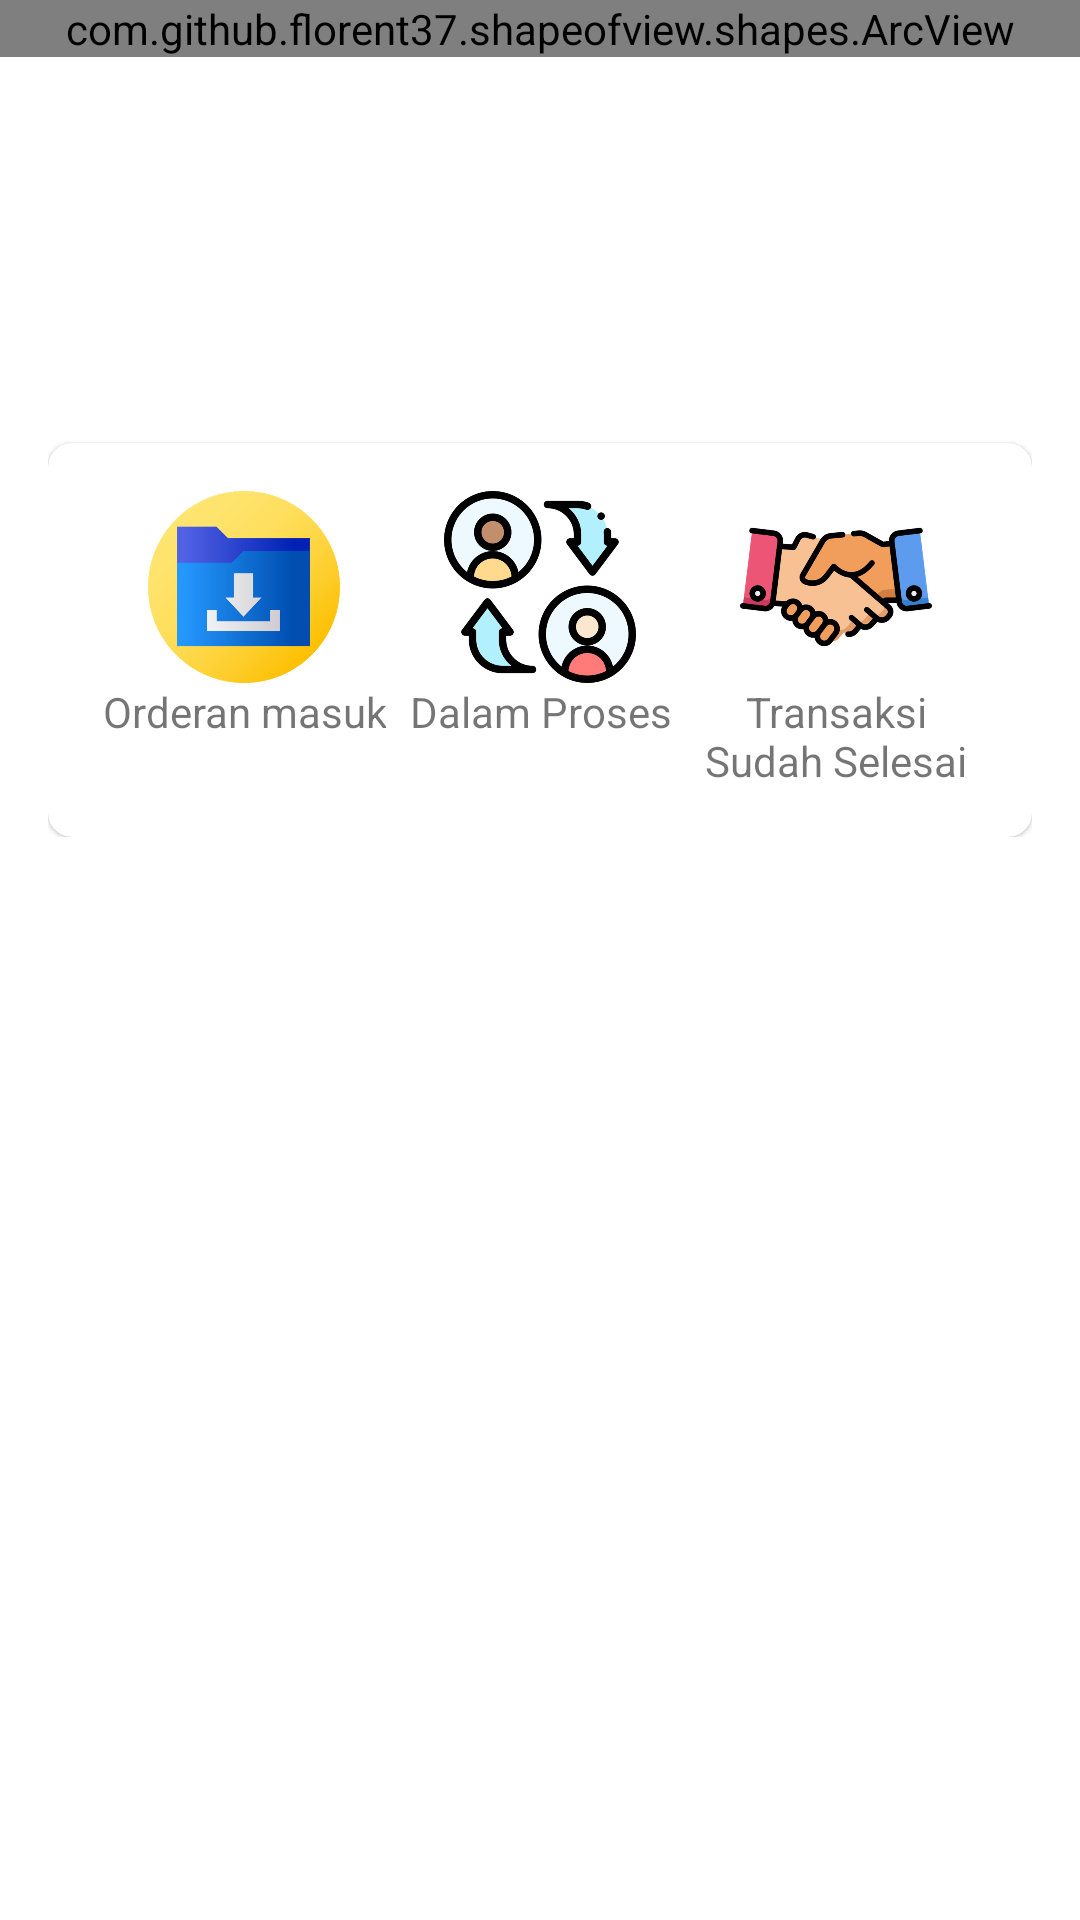

Named icons in this screenshot (1080x1920) and their bounding boxes, [x1, y1, x2, y2]:
agreement: [740, 528, 932, 646]
proses pembelian: [444, 491, 636, 683]
